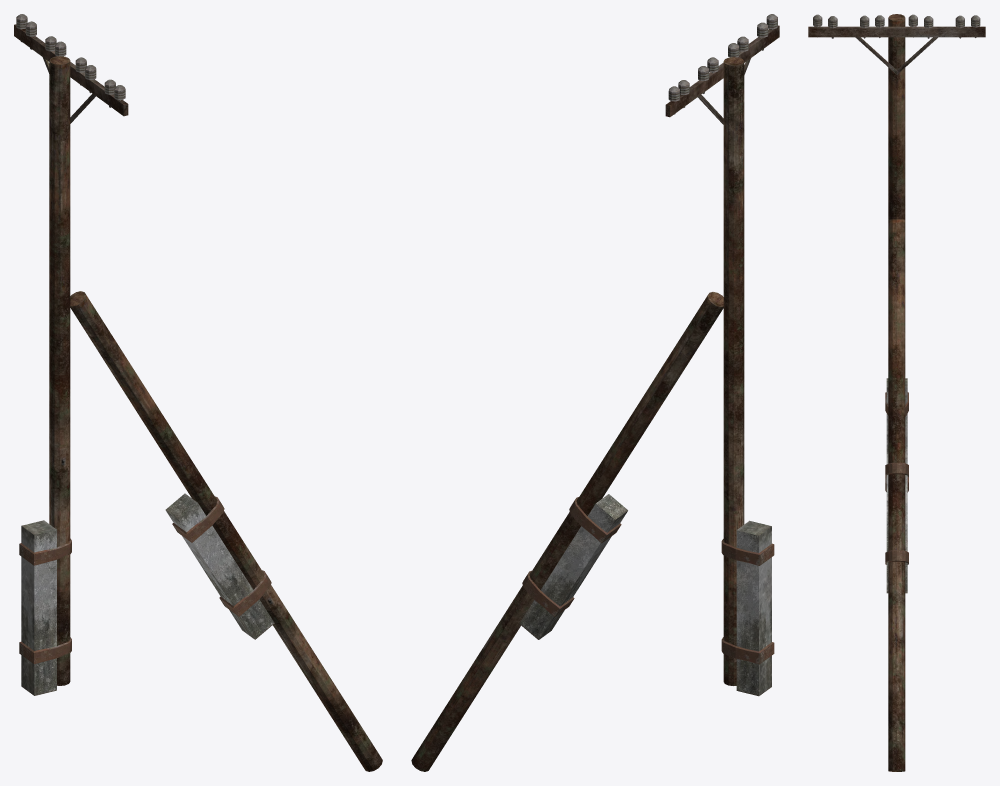
The model's file is lampOld_03.glb.
3 views of the same model, side by side, from view 1: azimuth 30°, elevation 25°; view 2: azimuth 150°, elevation 25°; view 3: azimuth 270°, elevation 25° (orthographic). The views are drawn at different scales.
Parts seen in each view (by area): view 1: geometry_0; view 2: geometry_0; view 3: geometry_0.
Part boxes in pixels (x1,y1,x2,y2): geometry_0: (14, 14, 382, 771); geometry_0: (411, 14, 779, 771); geometry_0: (808, 14, 985, 771).
Bounding box in the file's own units: 3.92 × 8.38 × 2.1.
Materials: 1 (1 with a texture image).
